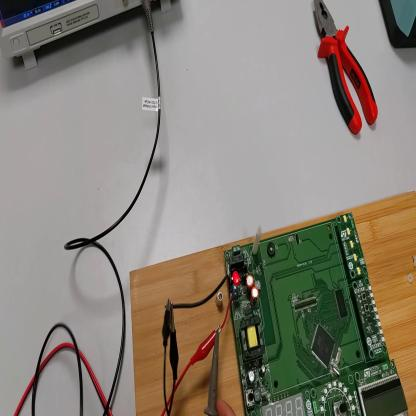hand: (219, 397, 237, 415)
low voltage board: (167, 214, 410, 416)
oscilloscope: (2, 2, 177, 69)
oscilloscope probe tip: (202, 329, 220, 416)
pliers: (313, 1, 379, 138)
welder station: (380, 1, 416, 51)
working area: (131, 190, 416, 414)
